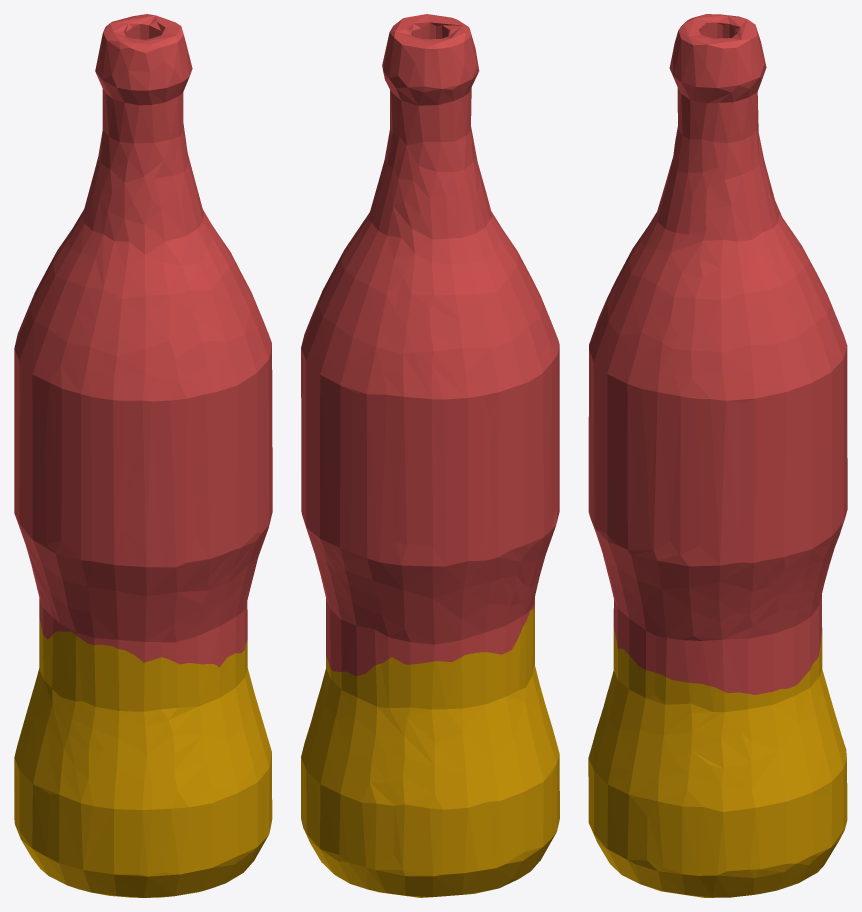
File: mode_1_2pcs.glb
The picture shows the model from 3 angles, left to right: view 1: azimuth 30°, elevation 25°; view 2: azimuth 150°, elevation 25°; view 3: azimuth 270°, elevation 25°; orthographic projection.
Visible parts, largest first — view 1: piece_1.obj, piece_0.obj; view 2: piece_1.obj, piece_0.obj; view 3: piece_1.obj, piece_0.obj.
Part boxes in pixels (<box>): piece_1.obj: <box>14,14,272,667</box>; piece_0.obj: <box>14,618,272,897</box>; piece_1.obj: <box>301,14,559,676</box>; piece_0.obj: <box>301,604,559,897</box>; piece_1.obj: <box>588,14,847,694</box>; piece_0.obj: <box>588,627,847,897</box>.
Bounding box in the file's own units: 0.2848 × 1 × 0.2847.
